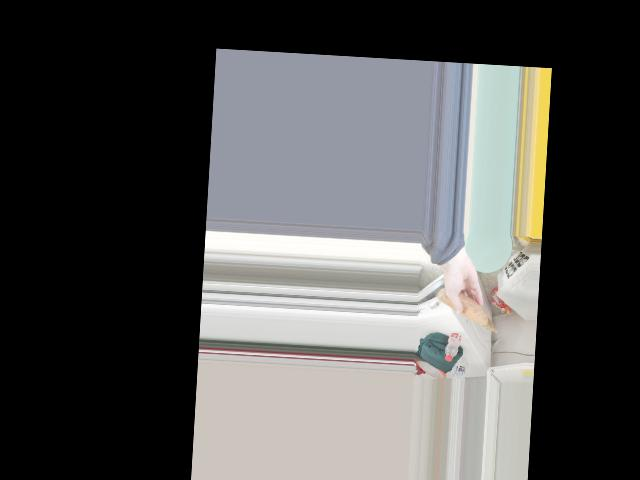sweet_potato: (449, 292, 484, 327)
